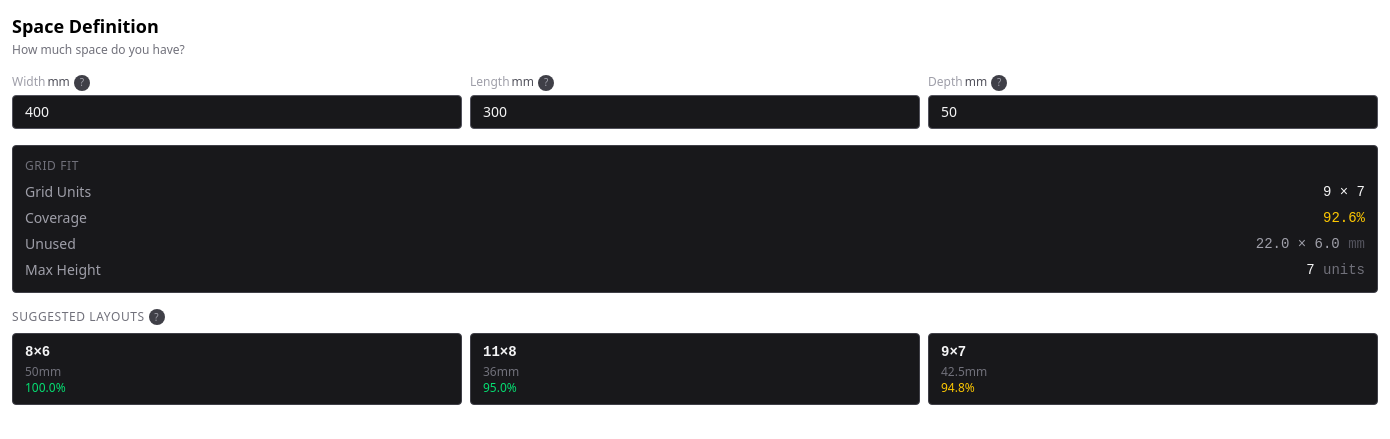
Scenario: SpaceConfigPanel — interactions › updates grid fit when width changes
Step 1. Replace the text in the number field with id "space-width" with "210" → (237, 112), box [12, 95, 462, 129]
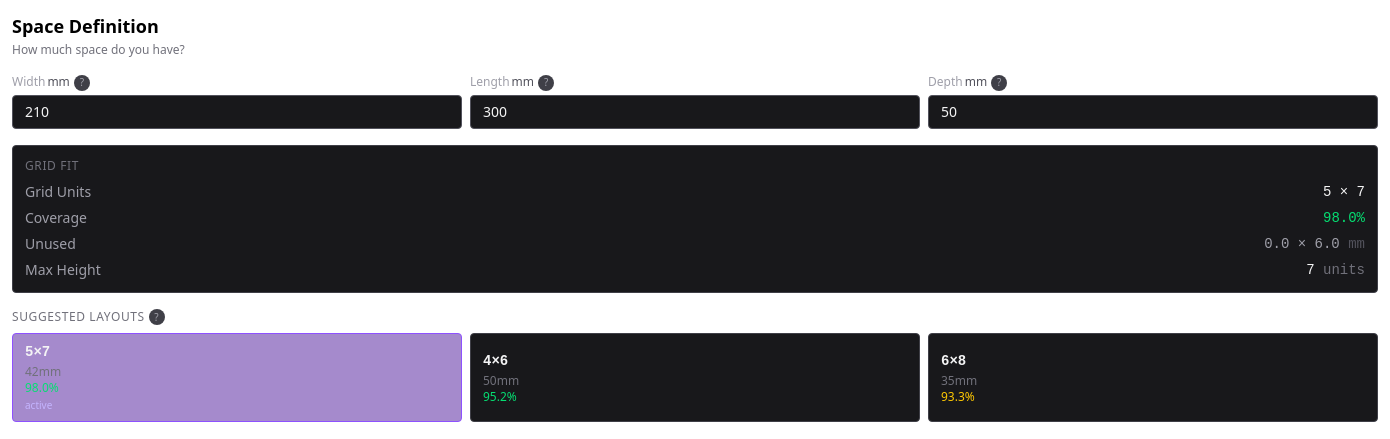
Now the text with test id "fit-unitsX" reads "5", box [1323, 184, 1331, 200]
